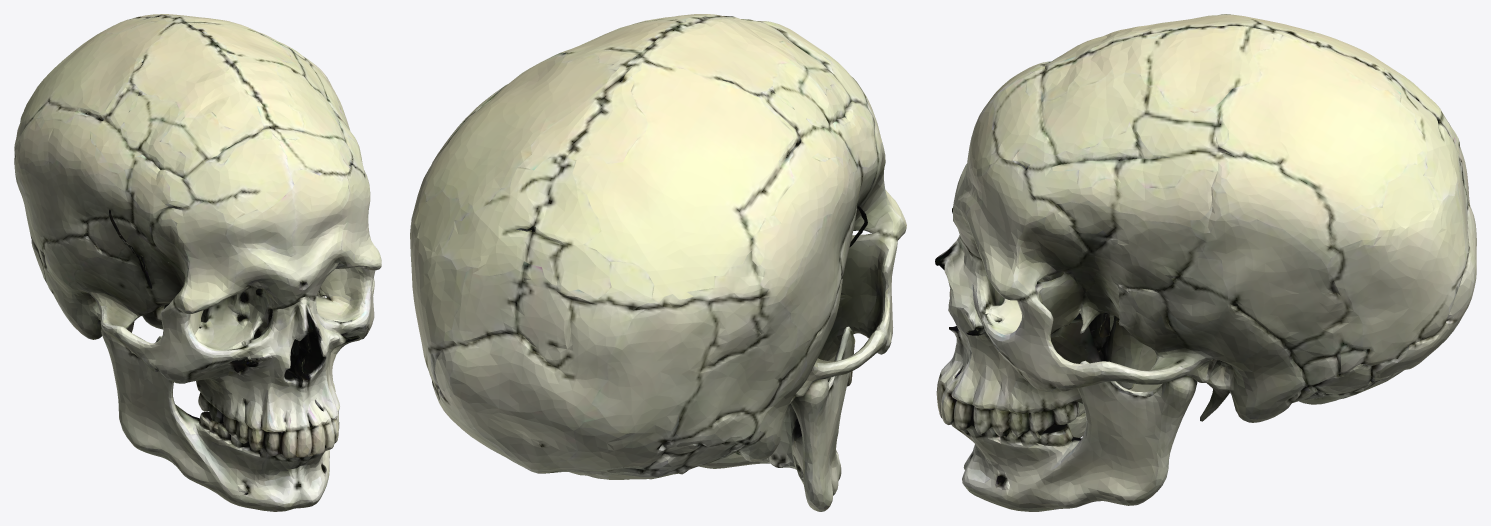
Rendered from combat_skull_01.glb.
The picture shows the model from 3 angles, left to right: view 1: azimuth 30°, elevation 25°; view 2: azimuth 150°, elevation 25°; view 3: azimuth 270°, elevation 25°; orthographic projection. The views are drawn at different scales.
Parts seen in each view (by area): view 1: geometry_0; view 2: geometry_0; view 3: geometry_0.
Boxes of the visible parts, <box> form: geometry_0: <box>14,14,381,511</box>; geometry_0: <box>410,14,906,511</box>; geometry_0: <box>935,14,1476,511</box>.
Size of the model in its own units: 0.703 by 0.9512 by 1.
1 material, 1 textured.
